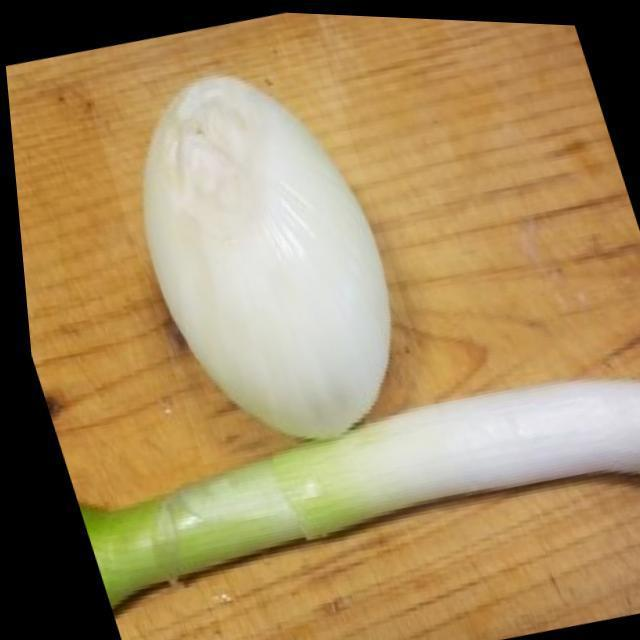Onion: (77, 24, 436, 471)
